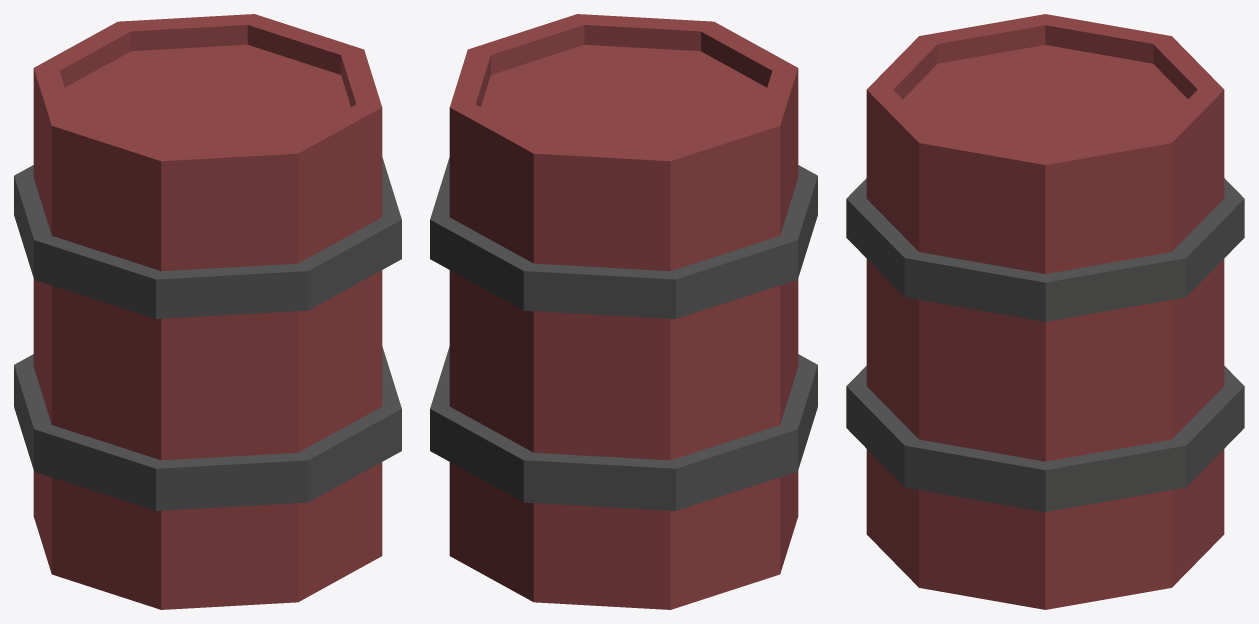
The model's file is env_prop_barrel1_mesh_01_v1.glb.
The picture shows the model from 3 angles, left to right: view 1: azimuth 30°, elevation 25°; view 2: azimuth 150°, elevation 25°; view 3: azimuth 270°, elevation 25°; orthographic projection.
Visible parts, largest first — view 1: Barrrel; view 2: Barrrel; view 3: Barrrel.
Part boxes in pixels (x1,y1,x2,y2): Barrrel: (14, 14, 401, 609); Barrrel: (430, 14, 817, 609); Barrrel: (846, 14, 1244, 609).
Bounding box in the file's own units: 1.28 × 1.58 × 1.28.
